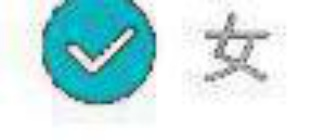CheckBox: (1, 1, 311, 139)
